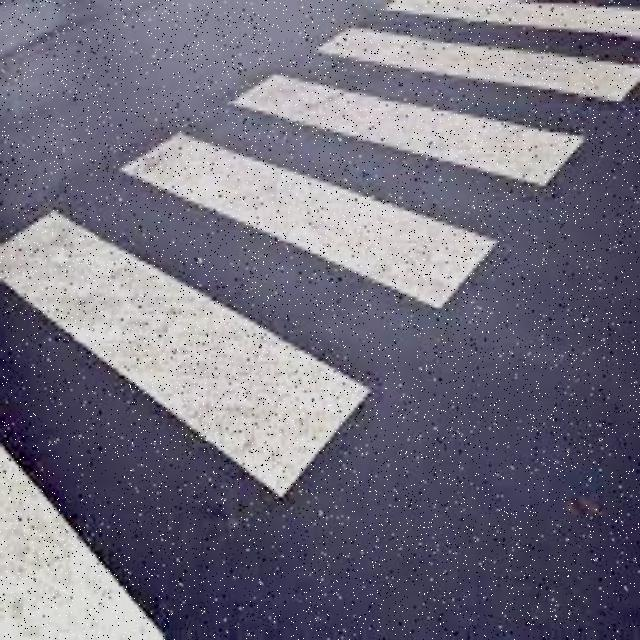Pedestrian crosswalk: (2, 0, 636, 637)
